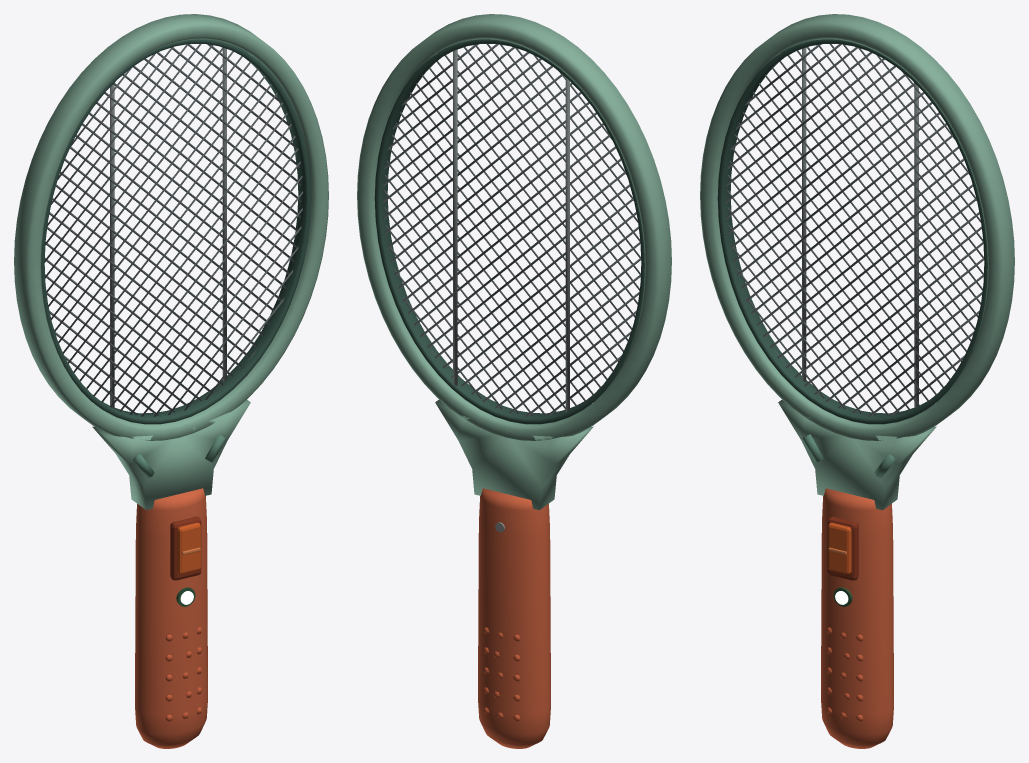
The picture shows the model from 3 angles, left to right: view 1: azimuth 30°, elevation 25°; view 2: azimuth 150°, elevation 25°; view 3: azimuth 330°, elevation 25°; orthographic projection.
Parts seen in each view (by area): view 1: asset_root_geometry, swatter_switch_geometry; view 2: asset_root_geometry; view 3: asset_root_geometry, swatter_switch_geometry.
Boxes of the visible parts, x1,y1,x2,y2 form: asset_root_geometry: [14, 14, 328, 748]; swatter_switch_geometry: [177, 522, 200, 574]; asset_root_geometry: [357, 14, 671, 748]; asset_root_geometry: [700, 14, 1014, 748]; swatter_switch_geometry: [828, 522, 851, 574].
Size of the model in its own units: 0.0756 by 0.1716 by 0.0153.
